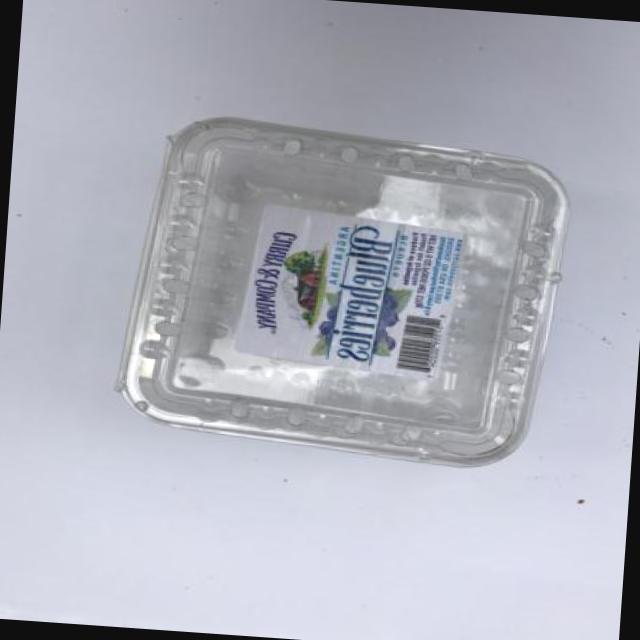plastic: (125, 109, 552, 474)
